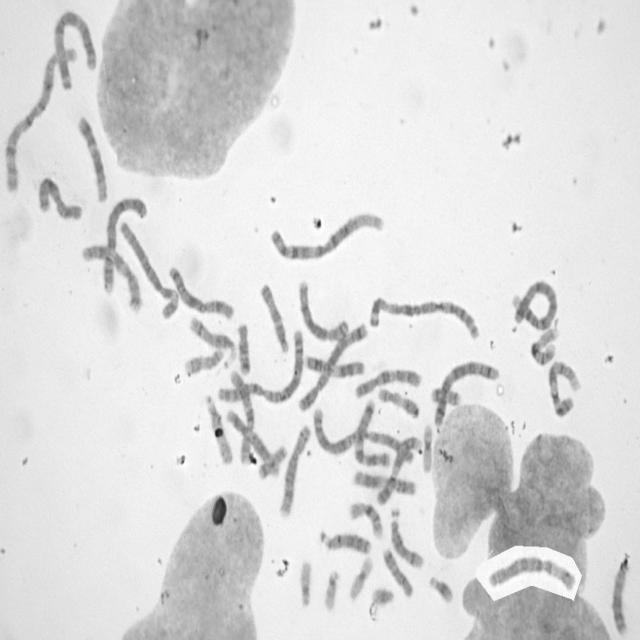A1: (5, 43, 78, 195), (270, 210, 385, 261)
A2: (216, 330, 304, 404), (312, 405, 415, 466)
A3: (368, 295, 480, 341), (52, 8, 98, 93)
B4: (100, 194, 148, 300), (511, 279, 559, 332)
B5: (296, 321, 369, 412), (432, 359, 501, 428)
C10: (228, 368, 256, 467), (354, 368, 424, 400)
C11: (352, 470, 418, 497), (304, 353, 366, 378)
C12: (226, 410, 280, 479), (77, 114, 109, 204)
C6: (119, 220, 180, 320), (488, 556, 577, 593)
C7: (81, 242, 143, 315), (353, 398, 391, 468)
C8: (298, 277, 350, 344), (278, 424, 312, 518)
C9: (374, 436, 424, 508), (547, 359, 581, 418)
D13: (610, 552, 630, 636), (318, 528, 372, 556)
D14: (190, 315, 237, 371), (388, 506, 426, 569)
D15: (260, 283, 291, 354), (204, 393, 234, 466)
E16: (349, 500, 385, 541), (529, 326, 560, 367)
E17: (378, 386, 420, 420), (184, 350, 225, 375)
E18: (382, 546, 414, 599), (236, 322, 252, 376)
F19: (348, 554, 374, 602), (421, 423, 435, 475)
F20: (257, 444, 289, 482), (430, 387, 462, 407)
G21: (427, 574, 453, 604), (371, 588, 395, 605)
G22: (321, 568, 341, 612), (298, 558, 312, 610)
X: (168, 264, 235, 320), (36, 176, 84, 223)
